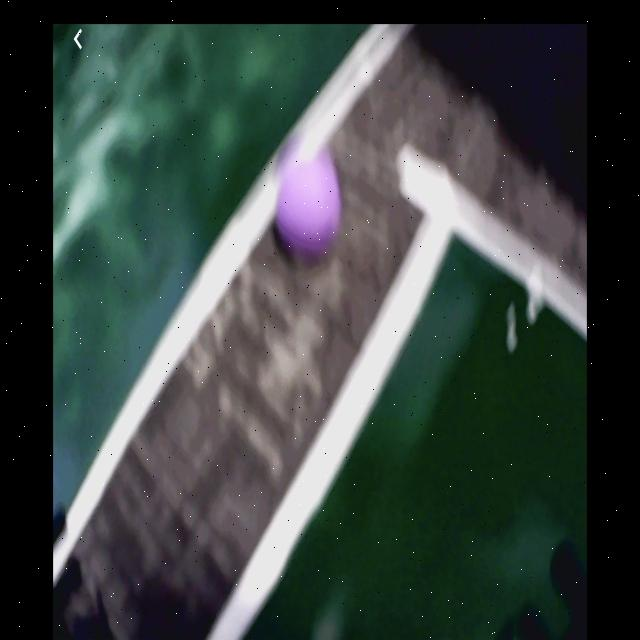ball: (271, 148, 343, 247)
